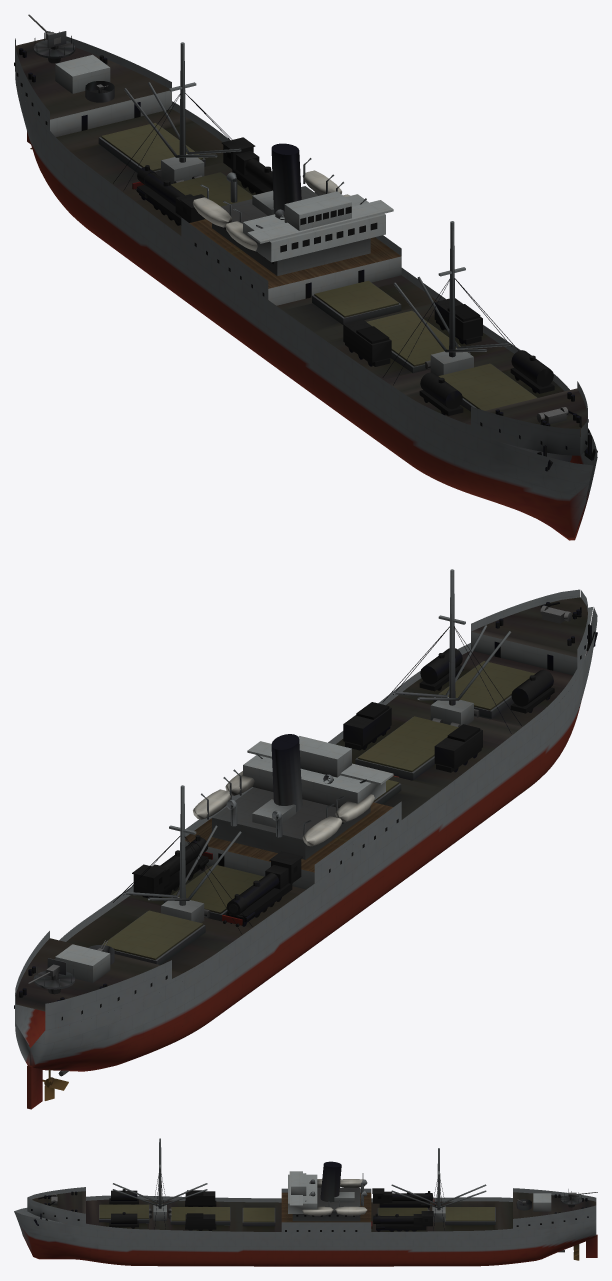
File: model_built.glb
The picture shows the model from 3 angles, top to bottom: view 1: azimuth 30°, elevation 25°; view 2: azimuth 150°, elevation 25°; view 3: azimuth 270°, elevation 25°; orthographic projection. The views are drawn at different scales.
Visible parts, largest first — view 1: main; view 2: main; view 3: main.
Part boxes in pixels (x1,y1,x2,y2): main: (14,14,597,540); main: (14,569,597,1109); main: (14,1138,597,1266).
Bounding box in the file's own units: 17.82 × 29.77 × 130.
Materials: 2 (2 with a texture image).
